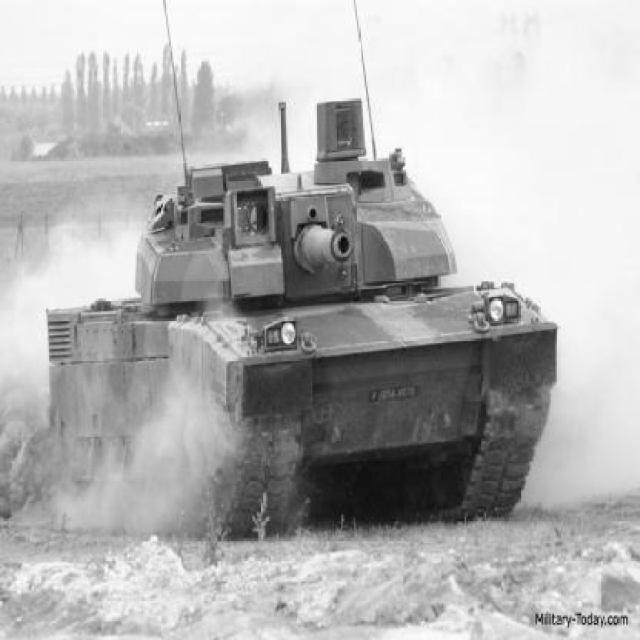Tank: (44, 96, 560, 541)
